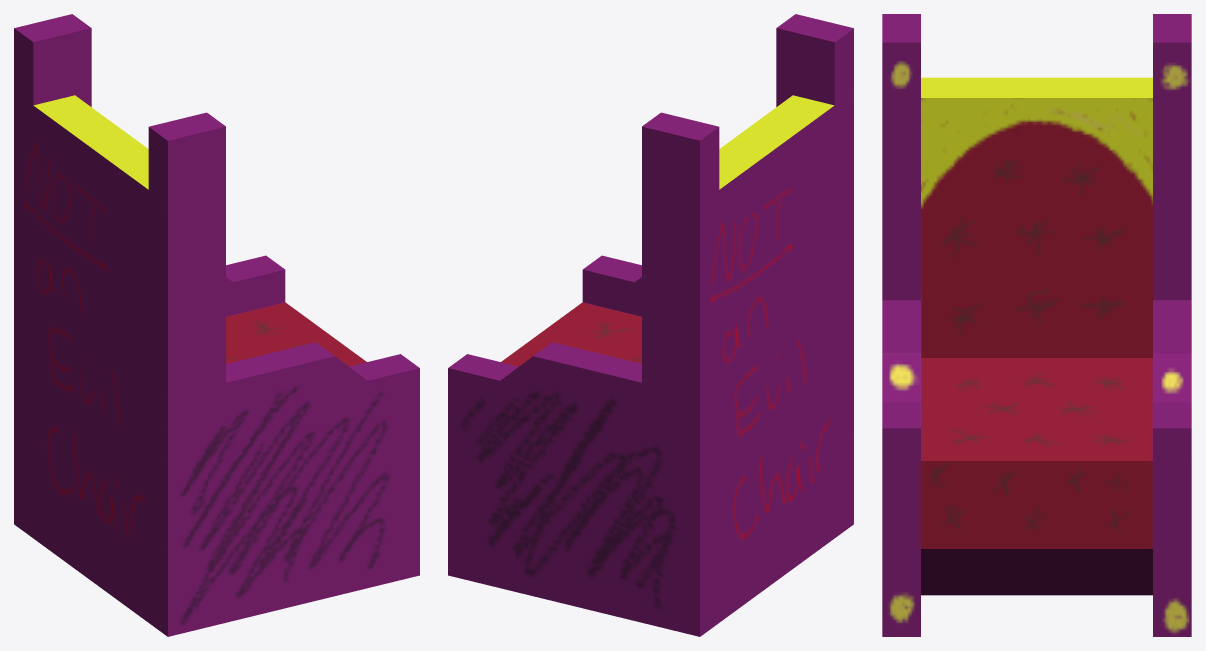
Rendered from desk chair.fbx.
The picture shows the model from 3 angles, left to right: view 1: azimuth 30°, elevation 25°; view 2: azimuth 150°, elevation 25°; view 3: azimuth 270°, elevation 25°; orthographic projection.
Parts seen in each view (by area): view 1: Cube; view 2: Cube; view 3: Cube.
Boxes of the visible parts, x1=… form: Cube: x1=14, y1=14, x2=419, y2=636; Cube: x1=448, y1=14, x2=853, y2=636; Cube: x1=882, y1=14, x2=1191, y2=636.
Bounding box in the file's own units: 302 × 568 × 319.
